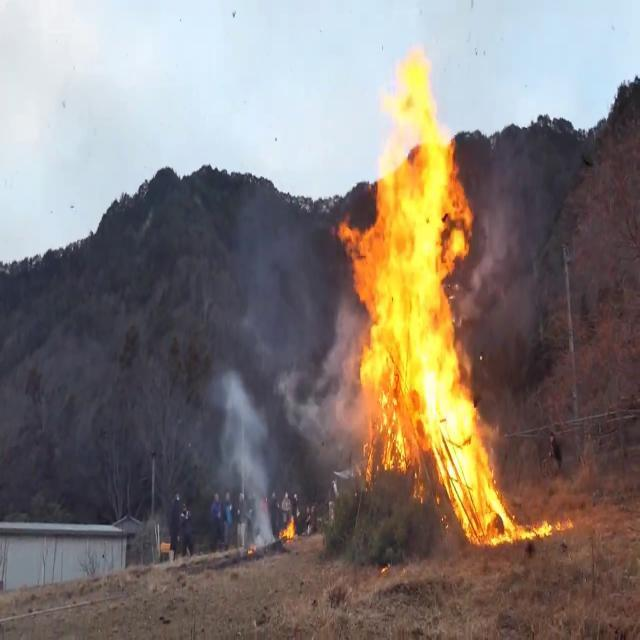Fire: (336, 36, 514, 552), (511, 505, 571, 545), (278, 509, 298, 548)
Smoke: (207, 344, 282, 546)
